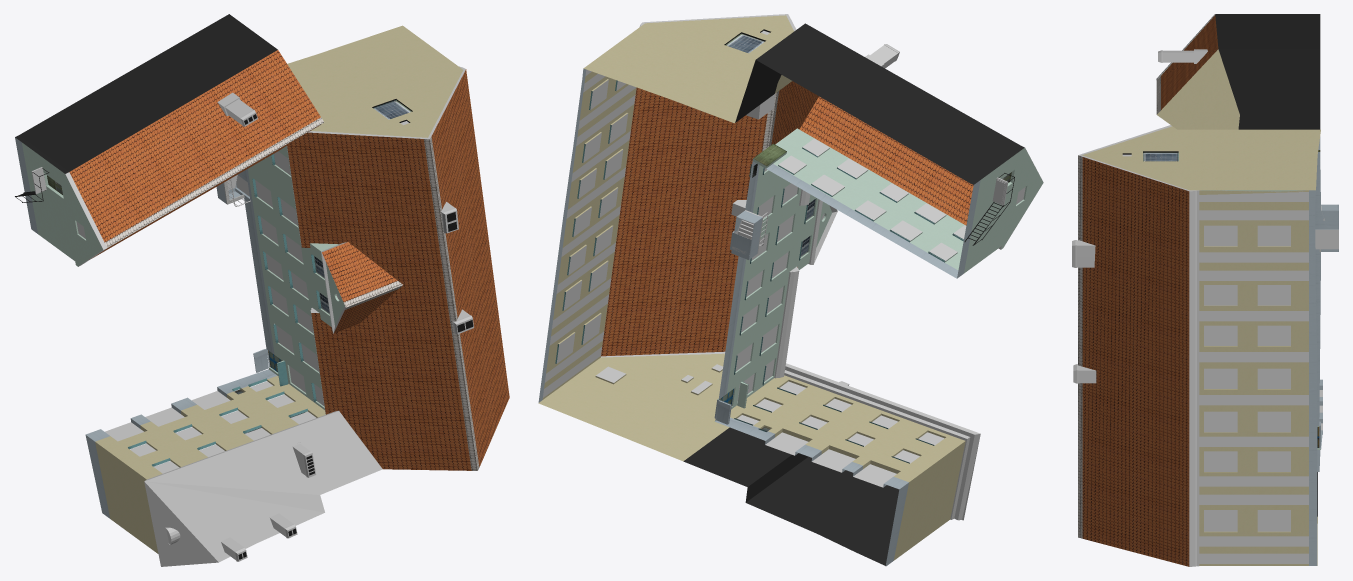
Rendered from Kiriku-4.obj.
3 views of the same model, side by side, from view 1: azimuth 30°, elevation 25°; view 2: azimuth 150°, elevation 25°; view 3: azimuth 270°, elevation 25° (orthographic). The views are drawn at different scales.
Parts seen in each view (by area): view 1: Kiriku_4; view 2: Kiriku_4; view 3: Kiriku_4.
Part boxes in pixels (x1,y1,x2,y2): Kiriku_4: [15, 14, 509, 566]; Kiriku_4: [538, 14, 1043, 566]; Kiriku_4: [1072, 14, 1338, 566].
Bounding box in the file's own units: 34.49 × 35.16 × 17.37.
